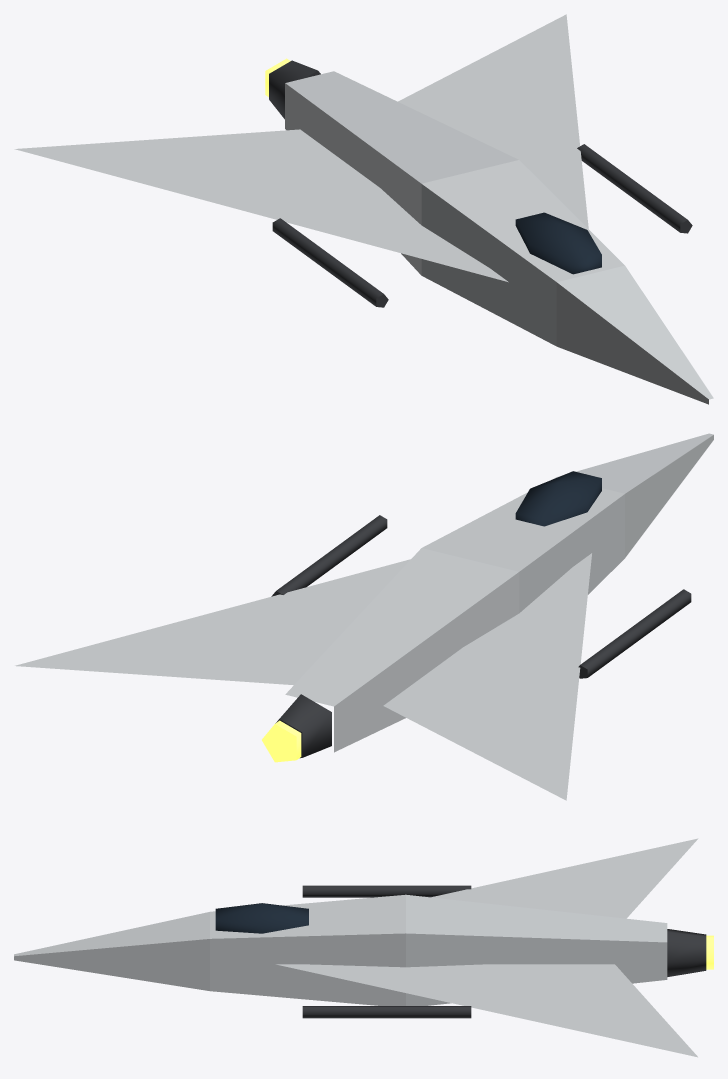
File: space_ship_interceptor_mk2_lod1.glb
3 views of the same model, one above another, from view 1: azimuth 30°, elevation 25°; view 2: azimuth 150°, elevation 25°; view 3: azimuth 270°, elevation 25° (orthographic). The views are drawn at different scales.
Parts seen in each view (by area): view 1: body, gun_r, gun_l, engine_0; view 2: body, engine_0, gun_r, gun_l; view 3: body, gun_l, engine_0, gun_r.
Part boxes in pixels (left/top/right/bottom): body: left=14, top=14, right=713, bottom=404; gun_r: left=272, top=218, right=388, bottom=307; gun_l: left=577, top=144, right=692, bottom=233; engine_0: left=265, top=58, right=320, bottom=119; body: left=15, top=433, right=713, bottom=800; engine_0: left=262, top=694, right=331, bottom=762; gun_r: left=578, top=589, right=691, bottom=678; gun_l: left=271, top=515, right=387, bottom=596; body: left=14, top=838, right=698, bottom=1057; gun_l: left=302, top=1006, right=471, bottom=1018; engine_0: left=667, top=929, right=713, bottom=976; gun_r: left=302, top=885, right=471, bottom=897.
Bounding box in the file's own units: 8 × 1.45 × 10.8.
